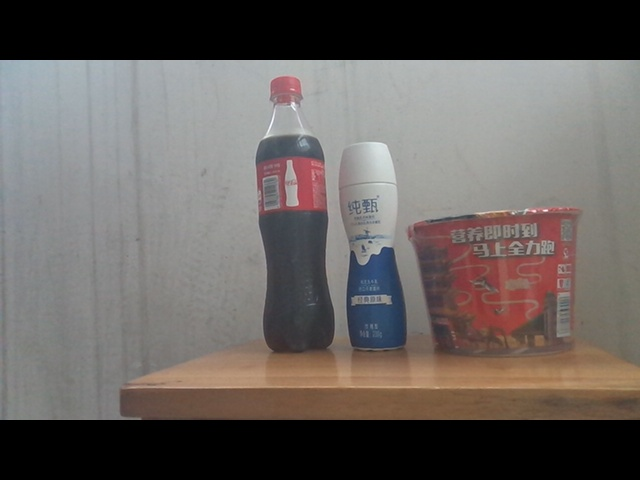cola: (255, 76, 335, 352)
kangshifu: (409, 207, 586, 362)
yogurt: (339, 142, 408, 353)
